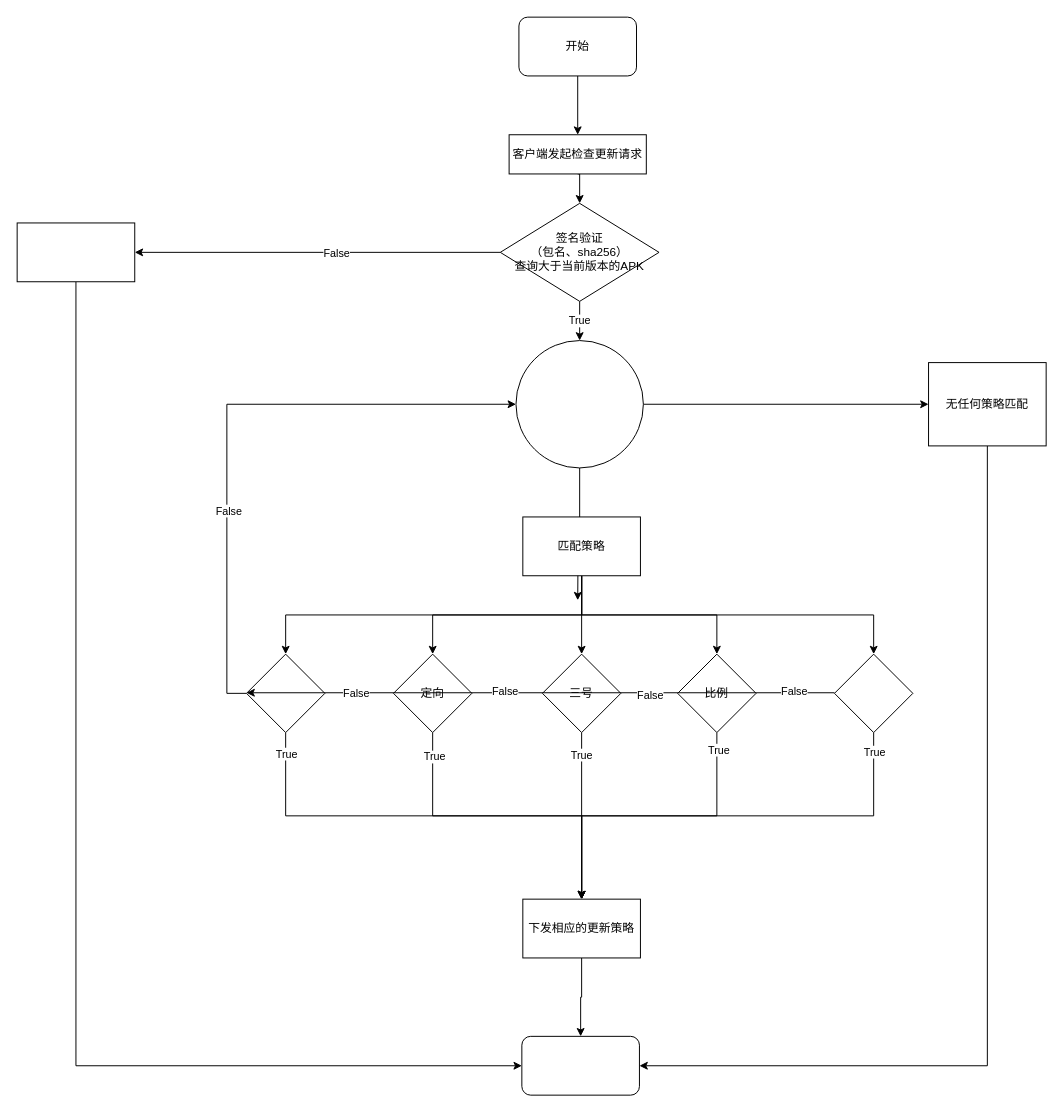
This 1063x1112 diagram has some shape labels left out. Each missing label, with the centre of its shape:
"三号+比例" belongs at (873,693).
"全网" belongs at (285,693).
"按照版本从高到底排列 遍历查找匹配的策略" belongs at (579,404).
"签名失败" belongs at (75,252).
"结束" belongs at (580,1065).
